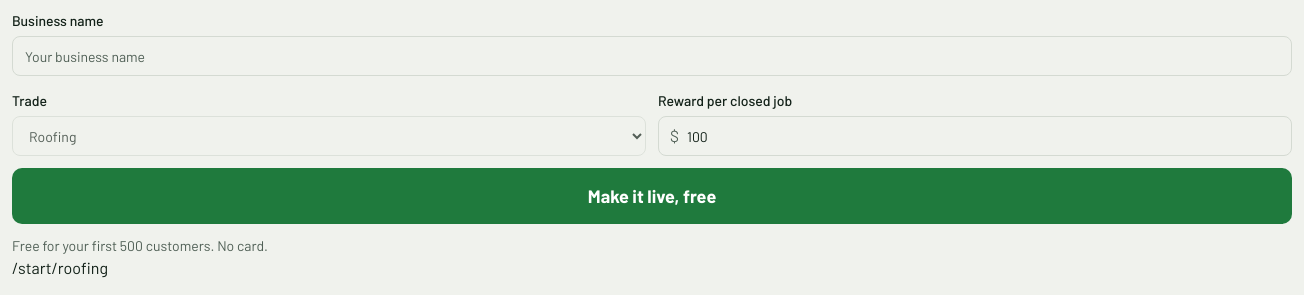
Scenario: instant preview trade choice › preserves locked-trade selection, suggested reward and signup navigation
Expected: the dropdown labelled "Trade" shows "Roofing", x1=12 y1=116 x2=646 y2=156
Expected: the dropdown labelled "Trade" is disabled, x1=12 y1=116 x2=646 y2=156
Type "Roofing fixture" into the field labelled "Business name" at {"x": 652, "y": 56}, box x1=12 y1=36 x2=1292 y2=76
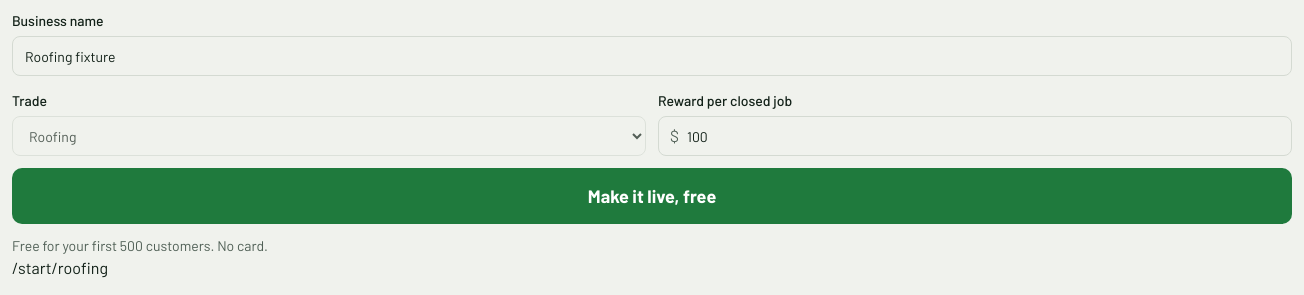
Click the button "Make it live, free" at {"x": 652, "y": 196}, box x1=12 y1=168 x2=1292 y2=224
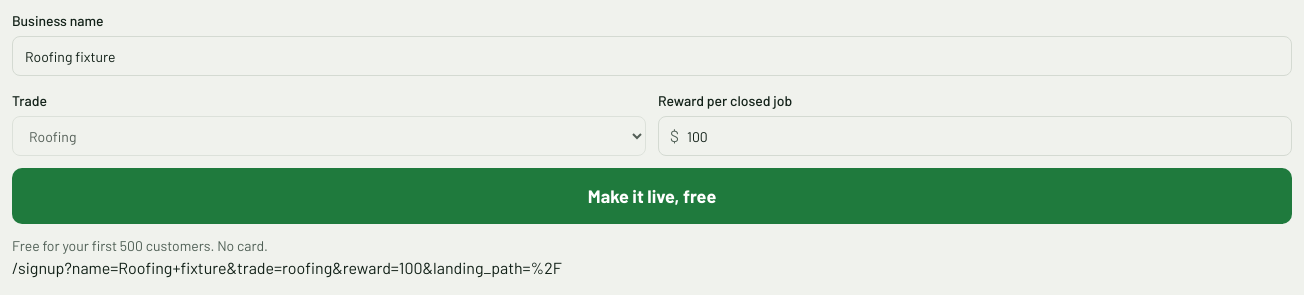
Expected: the text with test id "location" shows "trade=roofing", x1=64 y1=258 x2=562 y2=277
